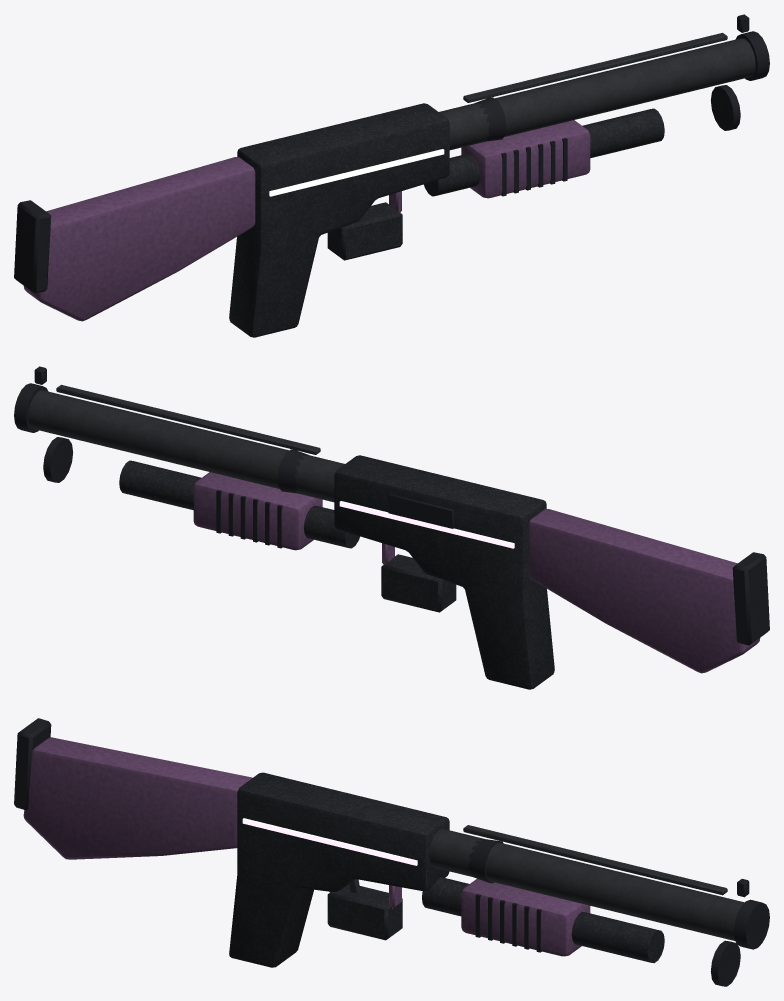
Rendered from shotgun_r3.fbx.
The picture shows the model from 3 angles, top to bottom: view 1: azimuth 30°, elevation 25°; view 2: azimuth 150°, elevation 25°; view 3: azimuth 330°, elevation 25°; orthographic projection.
Visible parts, largest first — view 1: Body, Slide, Magazine, Glow; view 2: Body, Slide, Magazine, Glow; view 3: Body, Slide, Magazine, Glow.
Part boxes in pixels (x1,y1,x2,y2): Body: (14,14,769,337); Slide: (461,120,590,198); Magazine: (327,202,402,260); Glow: (269,149,444,196); Body: (14,366,769,689); Slide: (193,472,322,550); Magazine: (381,554,456,612); Glow: (339,501,514,548); Body: (14,718,769,986); Slide: (461,878,590,956); Magazine: (327,884,402,940); Glow: (242,818,417,865).
Size of the model in its own units: 8.46 by 2.11 by 0.555.
2 materials, 1 textured.
